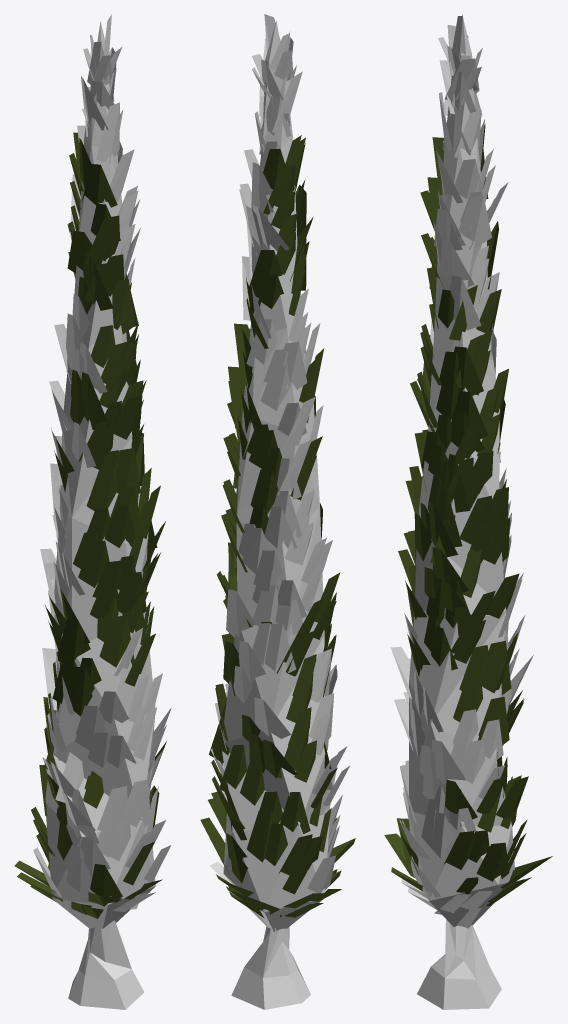
The model's file is SM_Tree_Cypress_Withered_A.fbx.
The picture shows the model from 3 angles, left to right: view 1: azimuth 30°, elevation 25°; view 2: azimuth 150°, elevation 25°; view 3: azimuth 270°, elevation 25°; orthographic projection.
Parts seen in each view (by area): view 1: tree-cypress-withered-a; view 2: tree-cypress-withered-a; view 3: tree-cypress-withered-a.
Part boxes in pixels (<box>): tree-cypress-withered-a: <box>14,14,171,1009</box>; tree-cypress-withered-a: <box>200,14,355,1009</box>; tree-cypress-withered-a: <box>384,14,552,1009</box>.
Bounding box in the file's own units: 1.37 × 9.21 × 1.44.
